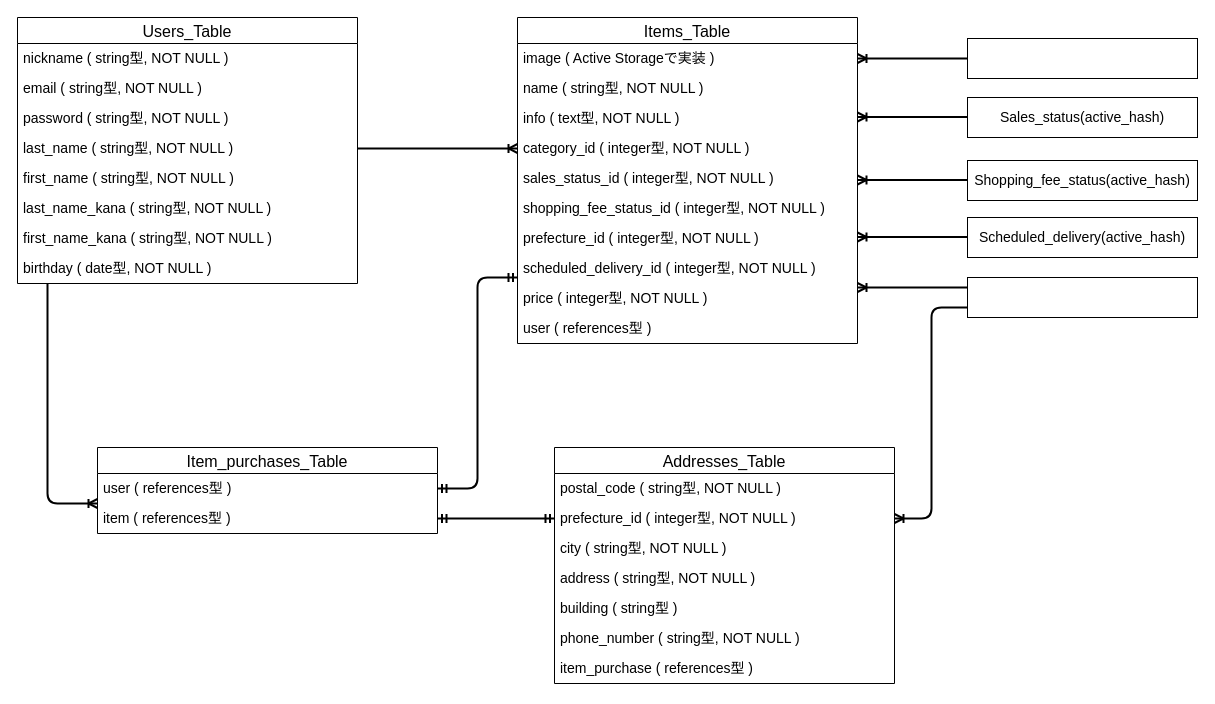
The diagram is 1215 pixels wide and 704 high, and some of its shapes have lost their labels. Each missing label, with the centre of its shape:
"Category(active_hash)" goes at (1082,58).
"Prefecture(active_hash)" goes at (1082,297).
